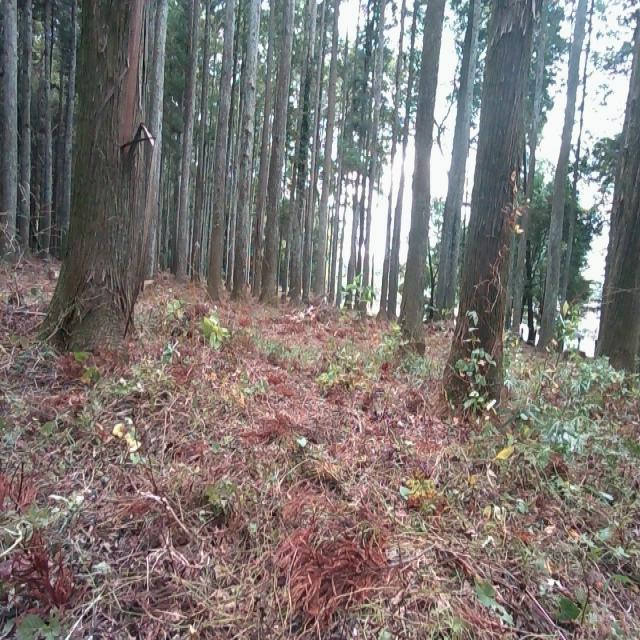bush: (451, 289, 634, 530)
tree: (450, 0, 548, 424), (39, 0, 143, 349), (392, 0, 456, 347), (599, 8, 640, 370), (257, 0, 298, 309), (208, 0, 238, 300)
